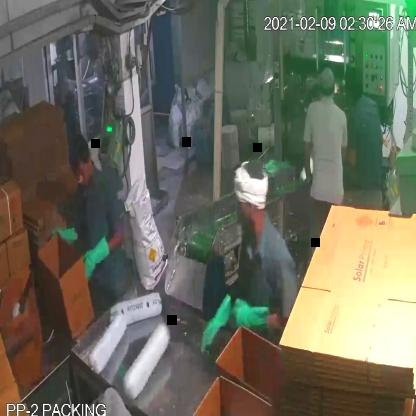glove: (199, 284, 232, 355), (232, 291, 274, 340), (80, 234, 112, 284), (46, 215, 82, 255)
no_glove: (300, 131, 318, 189)
